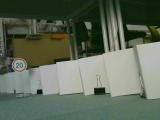speed_20: (11, 58, 27, 73)
